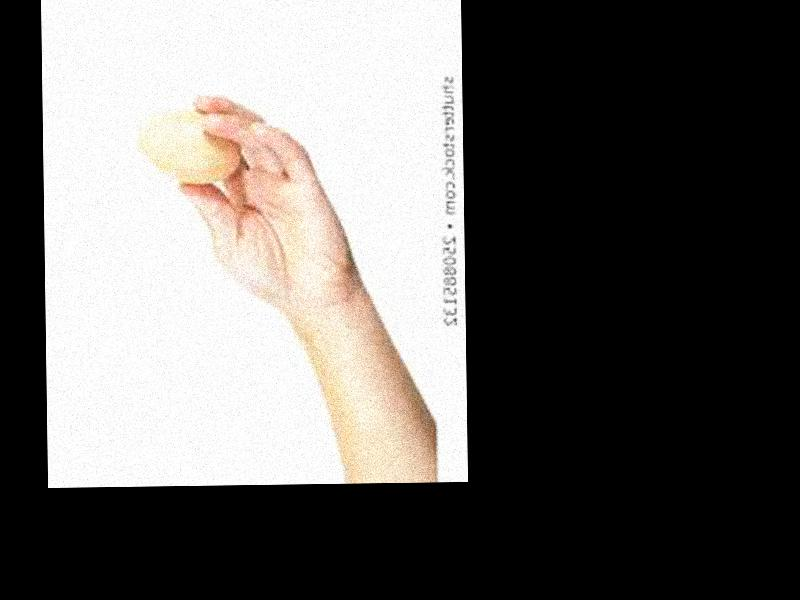Eggs: (135, 109, 245, 184)
